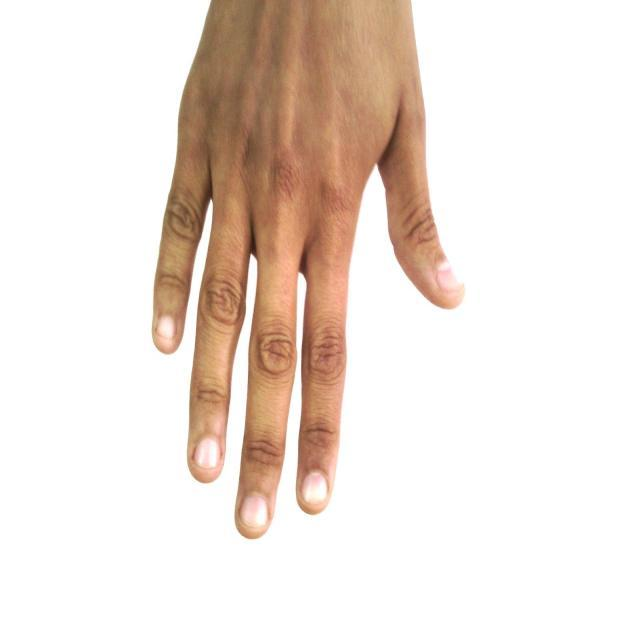Fingernail: (239, 496, 267, 528), (302, 472, 326, 505), (437, 264, 463, 294), (195, 438, 220, 468), (156, 315, 176, 338)
